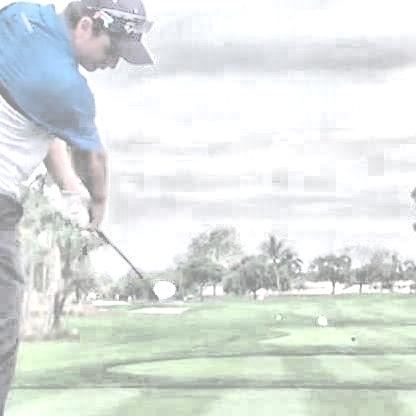golfball: (315, 315, 326, 325)
